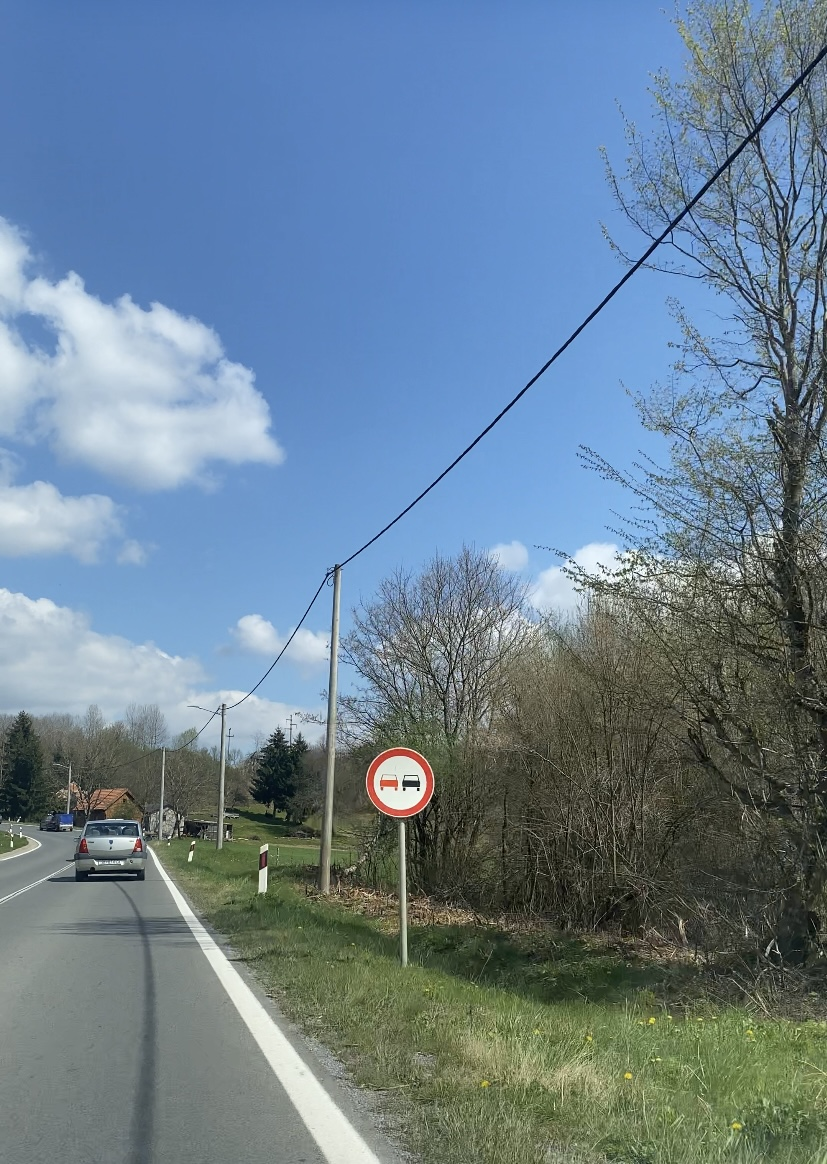Zabrana pretjecanja: (365, 747, 435, 818)
